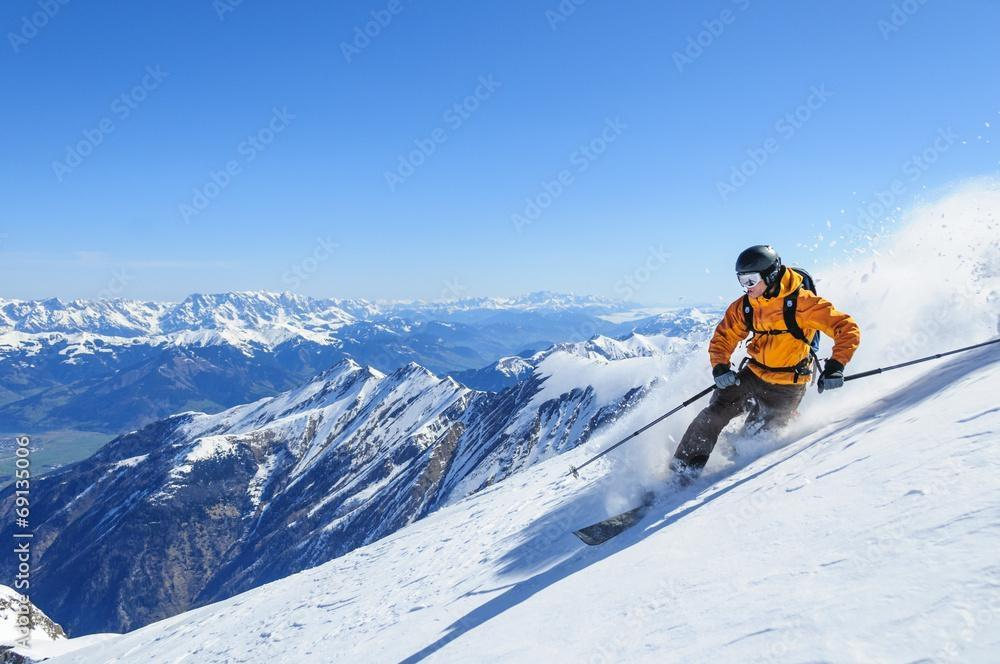Skis: (537, 428, 775, 564)
